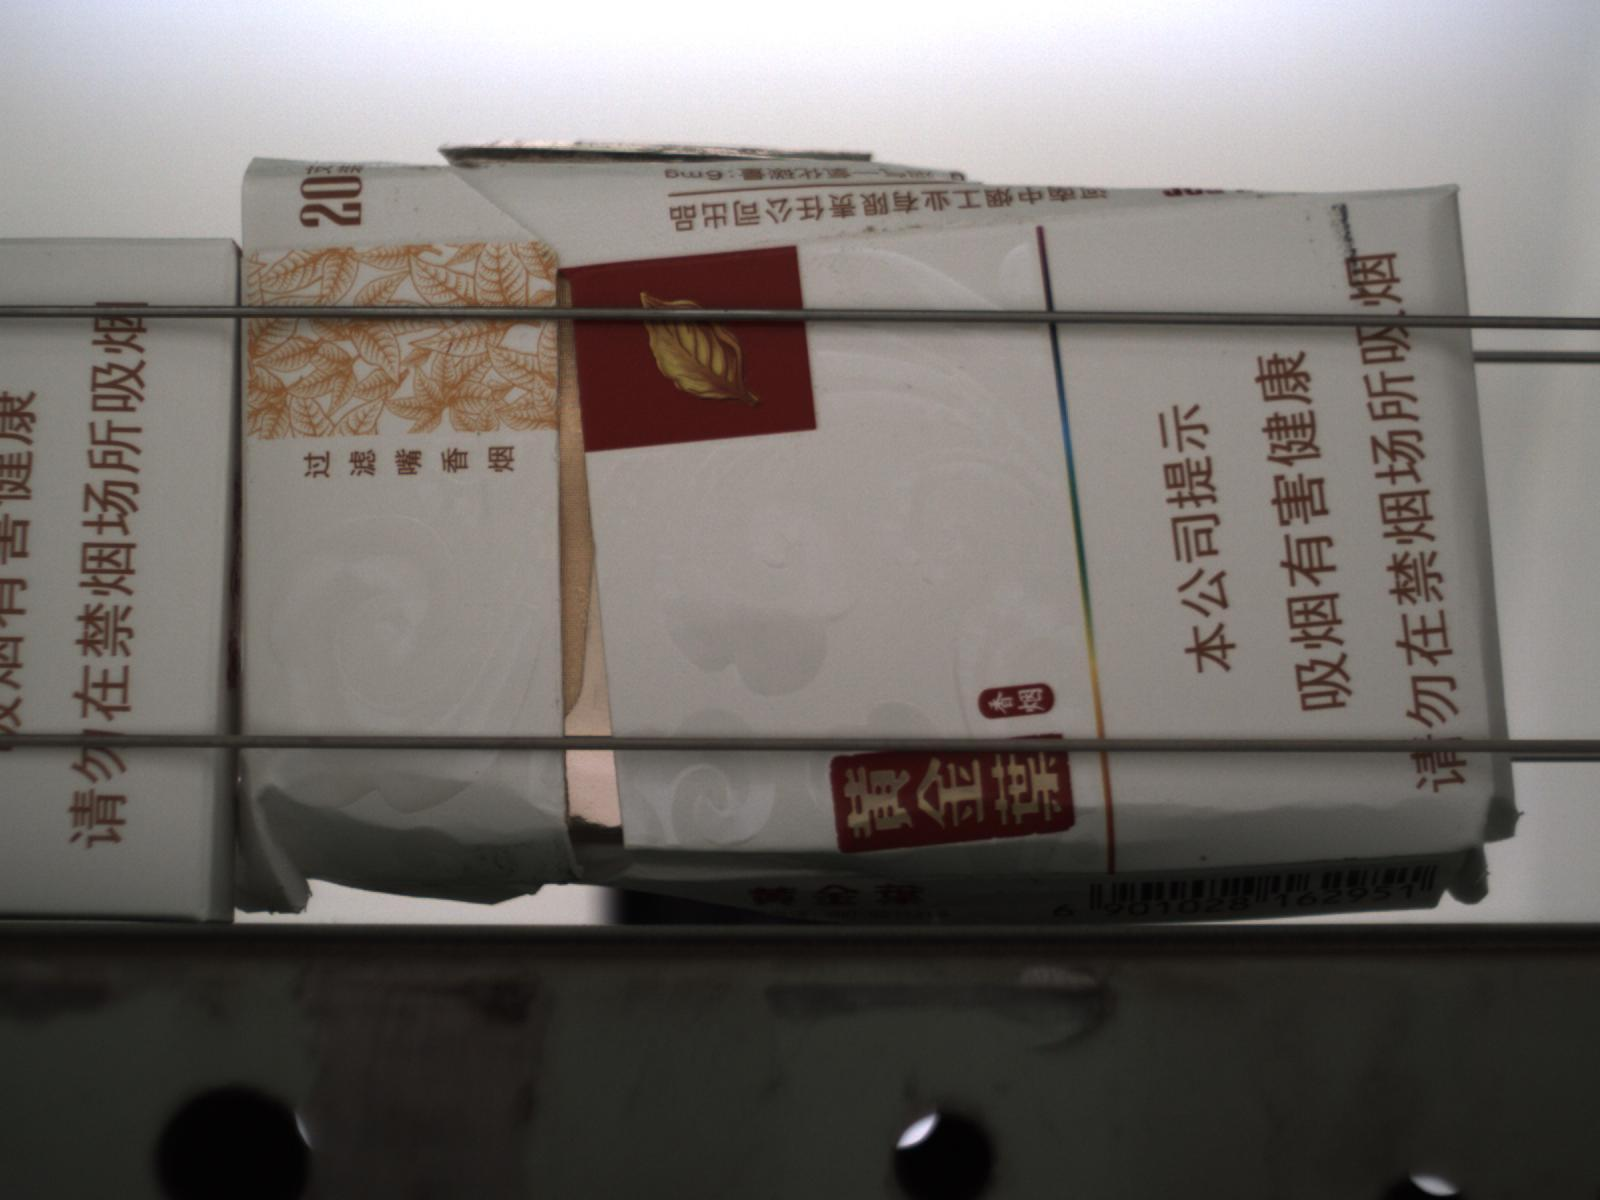boxDamage_back_heavy: (236, 783, 1529, 926)
dirtySpot: (905, 382, 917, 394), (1198, 853, 1210, 865), (1303, 214, 1313, 224), (1307, 236, 1316, 245)
gumDirt: (1326, 204, 1361, 275)
headUpwarp_upper_01: (240, 154, 450, 180)
skewedOpen: (548, 267, 631, 873)
skewed_upper_0: (441, 140, 1313, 279)
